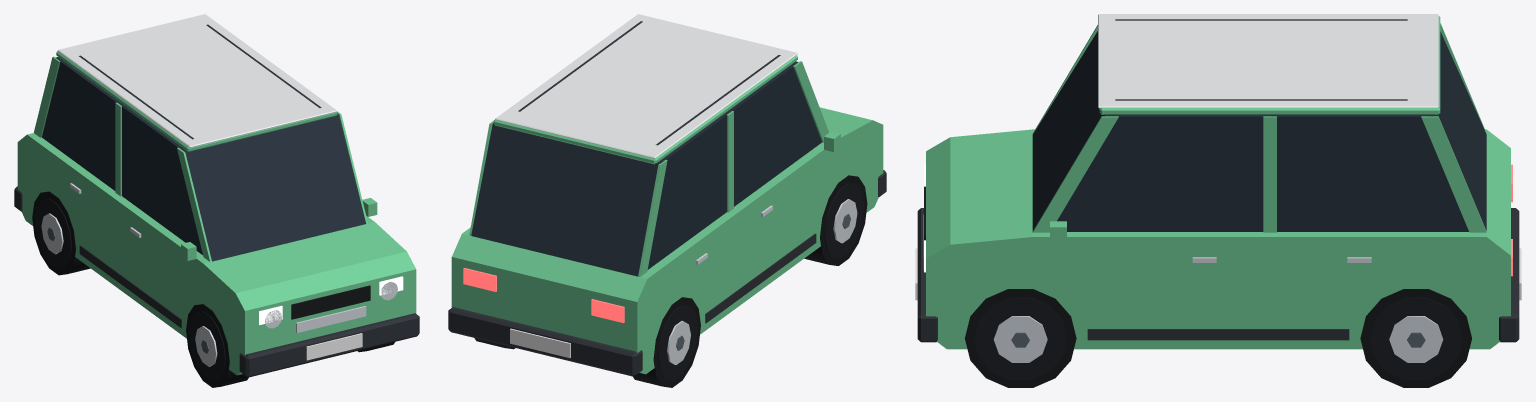
File: kei_car.glb
3 views of the same model, side by side, from view 1: azimuth 30°, elevation 25°; view 2: azimuth 150°, elevation 25°; view 3: azimuth 270°, elevation 25° (orthographic). The views are drawn at different scales.
Visible parts, largest first — view 1: kei_car; view 2: kei_car; view 3: kei_car.
Part boxes in pixels (x1,y1,x2,y2): kei_car: (14, 14, 419, 387); kei_car: (448, 14, 886, 387); kei_car: (915, 14, 1521, 387).
Size of the model in its own units: 1.64 by 1.76 by 3.52.
